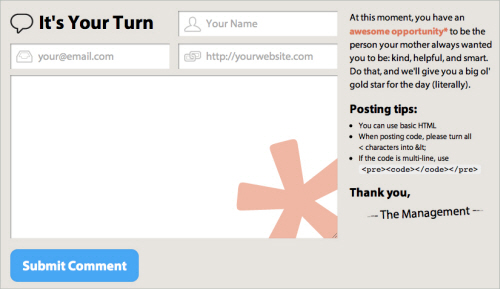button: (9, 248, 139, 284)
field: (9, 75, 340, 239), (9, 43, 171, 71), (178, 43, 339, 71), (178, 11, 338, 38)
